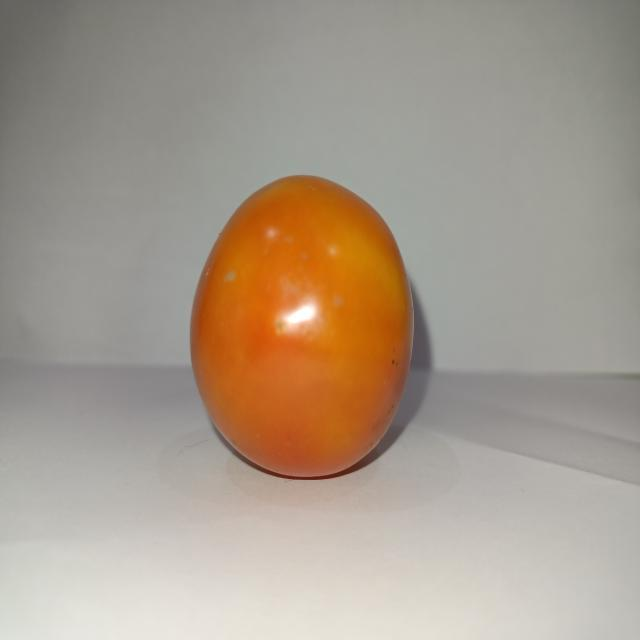Red: (188, 173, 415, 480)
